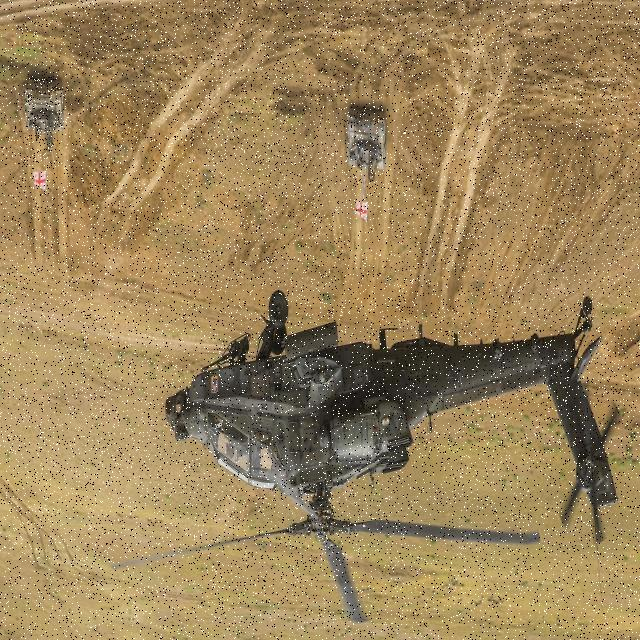MIL_MBT: (346, 103, 388, 201), (24, 74, 62, 166)
